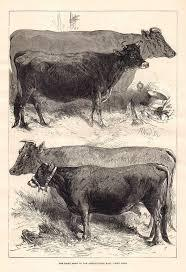cow: (9, 139, 178, 232), (27, 159, 176, 247), (12, 40, 150, 133), (10, 26, 178, 94)
